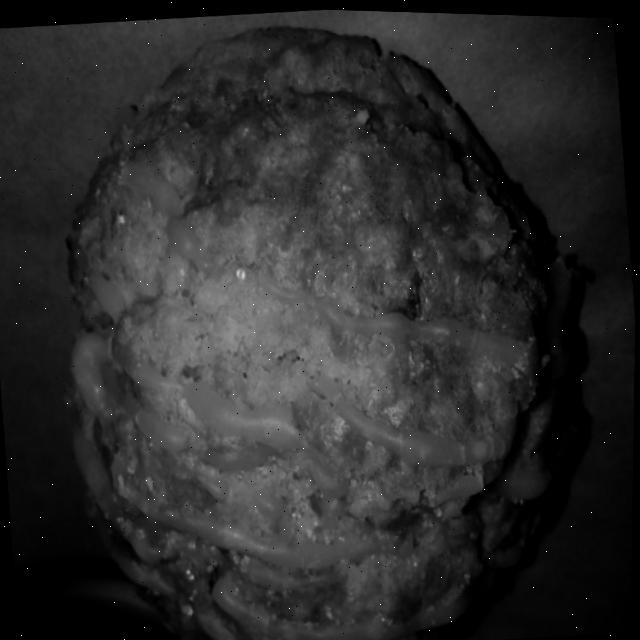面包点心: (26, 1, 629, 640)
